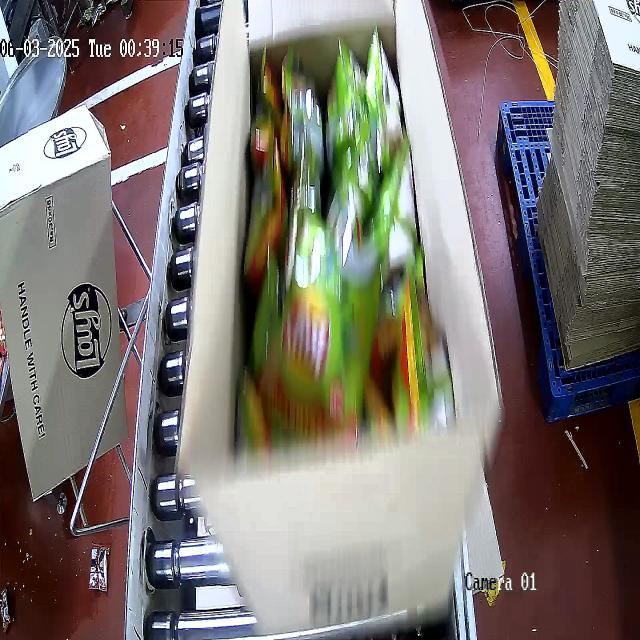YOGURT_HERB: (228, 41, 428, 455)
